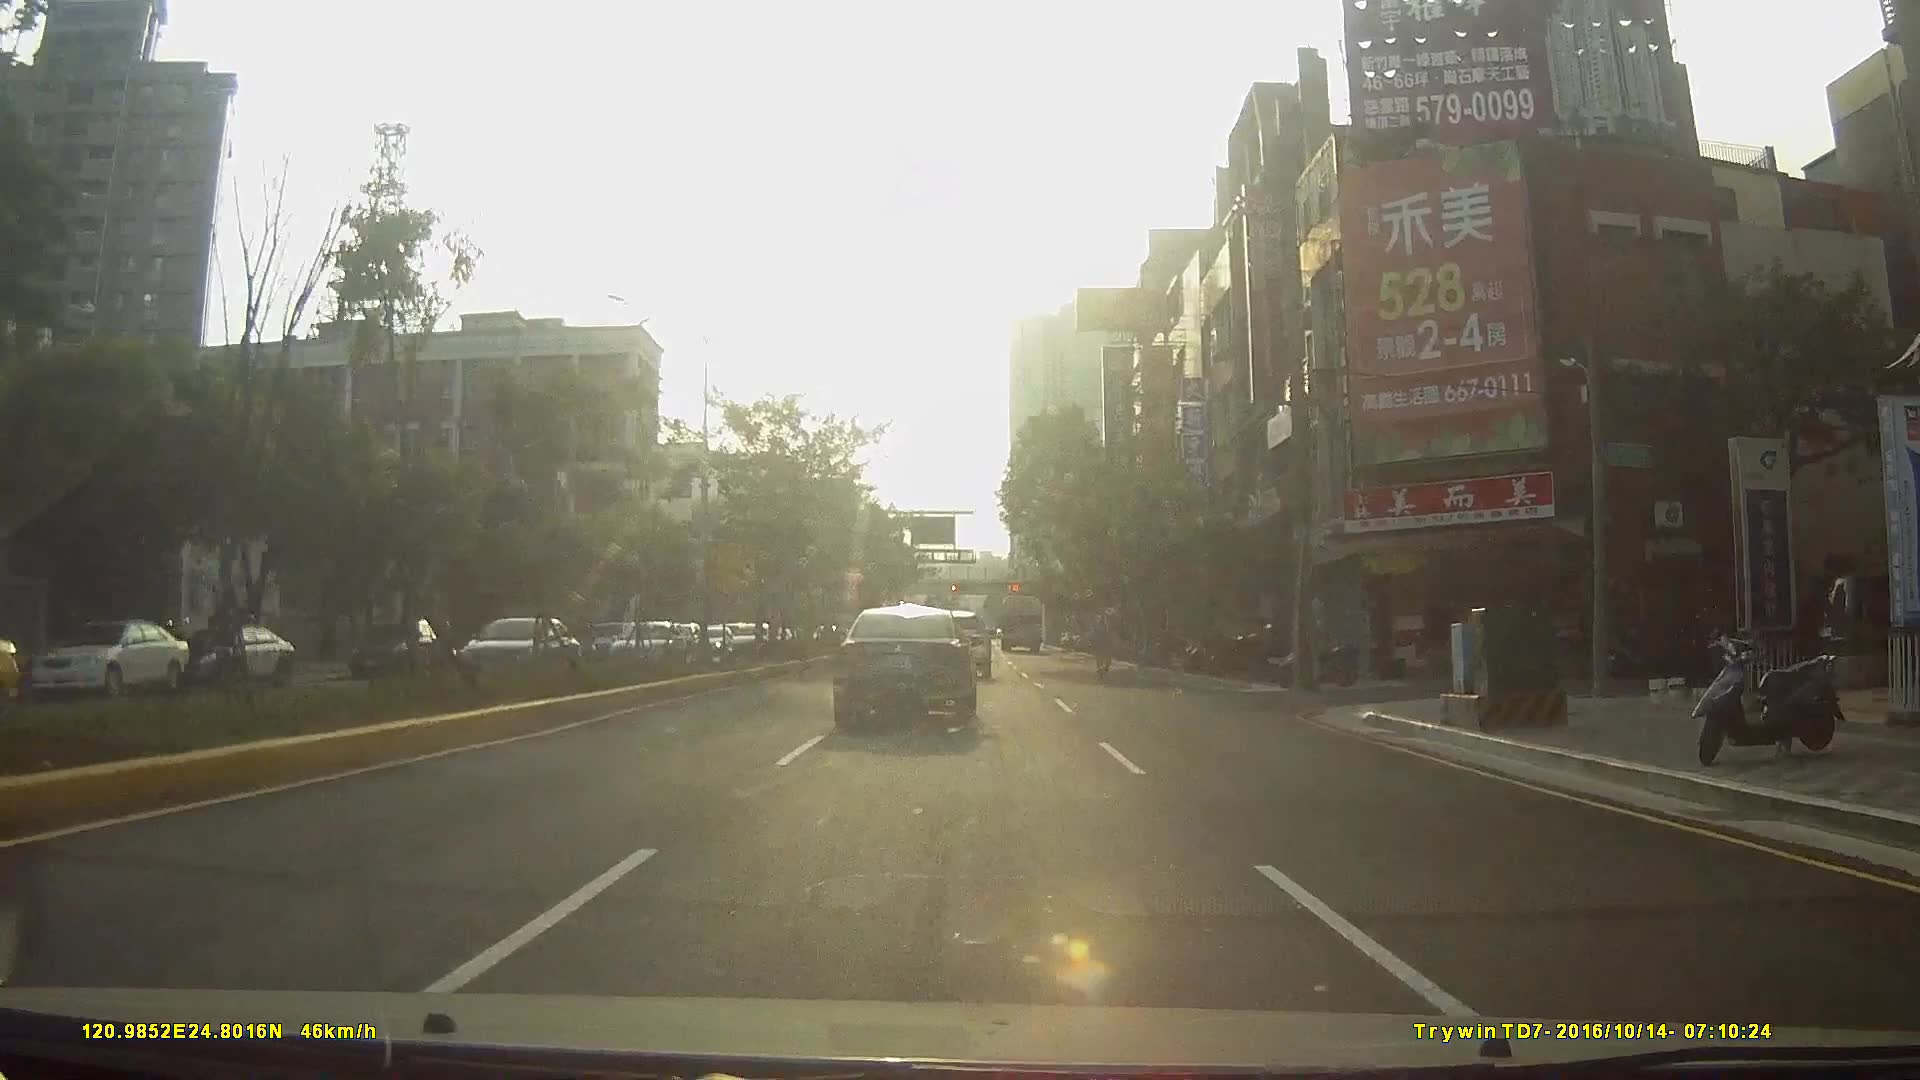vehicle: (831, 603, 978, 727), (18, 618, 179, 696), (443, 615, 574, 682), (162, 622, 289, 688), (339, 615, 440, 676), (597, 617, 682, 670), (1000, 589, 1044, 651), (585, 621, 630, 662)
